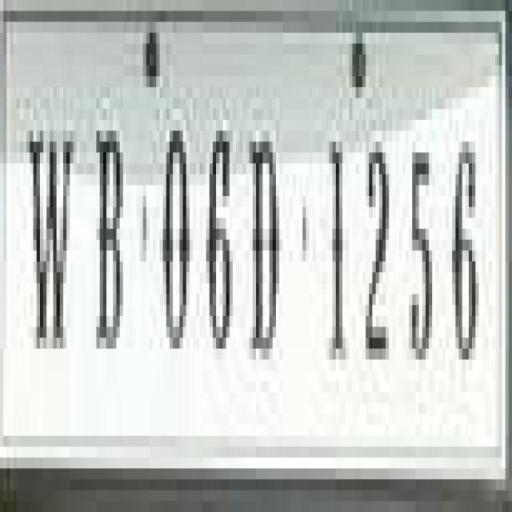number plate: (4, 21, 489, 468)
